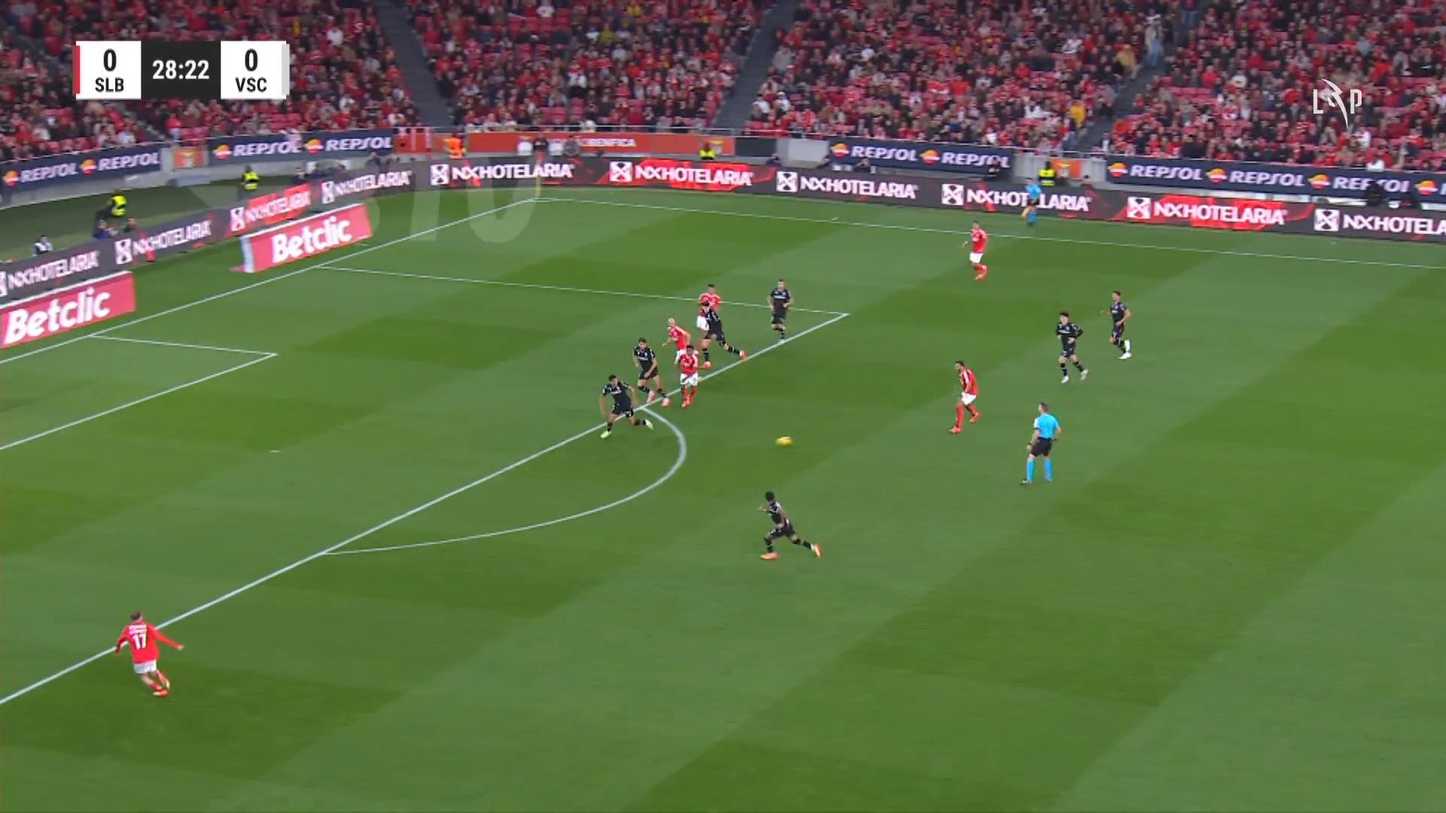ball: (776, 436, 792, 446)
player: (114, 609, 185, 696), (756, 491, 821, 559), (694, 283, 746, 367), (597, 373, 653, 439), (632, 336, 669, 407), (948, 359, 981, 434), (1055, 310, 1088, 383), (1100, 290, 1133, 359), (961, 220, 989, 280), (675, 343, 700, 408), (767, 278, 793, 339), (661, 316, 691, 366)
referee: (1019, 400, 1061, 486), (1020, 175, 1042, 226)
